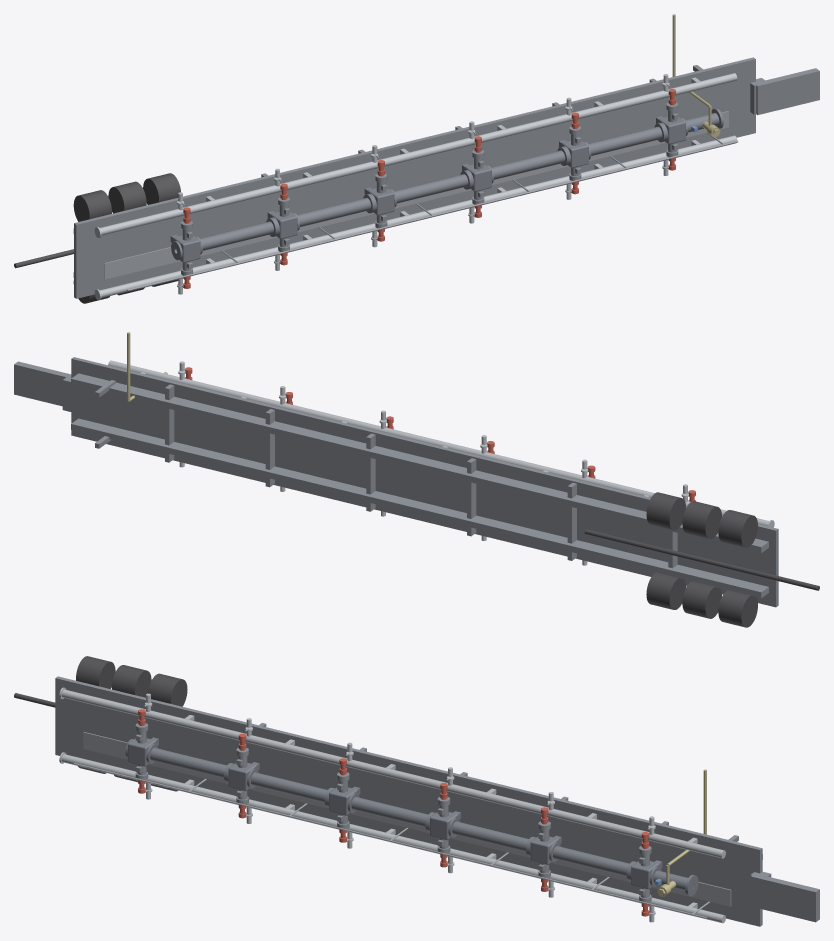
The model's file is PP-MISSILE.glb.
The picture shows the model from 3 angles, top to bottom: view 1: azimuth 30°, elevation 25°; view 2: azimuth 150°, elevation 25°; view 3: azimuth 330°, elevation 25°; orthographic projection. The views are drawn at different scales.
Parts seen in each view (by area): view 1: PP-MISSILE-DECK, PP-MISSILE-LPHEADER, PP-MISSILE-HPHEADER, PP-MISSILE-WALKWAY, PP-MISSILE-AXLES, PP-MISSILE-CHECKVALVE, PP-MISSILE-SWIVELARM, PP-MISSILE-LPOUTLET, PP-MISSILE-PRV; view 2: PP-MISSILE-DECK, PP-MISSILE-AXLES, PP-MISSILE-LPHEADER, PP-MISSILE-LPOUTLET; view 3: PP-MISSILE-DECK, PP-MISSILE-LPHEADER, PP-MISSILE-HPHEADER, PP-MISSILE-WALKWAY, PP-MISSILE-AXLES, PP-MISSILE-CHECKVALVE, PP-MISSILE-SWIVELARM, PP-MISSILE-LPOUTLET, PP-MISSILE-PRV, PP-MISSILE-OUTLET.
Boxes of the visible parts, x1,y1,x2,y2 form: PP-MISSILE-DECK: (73,57,819,298); PP-MISSILE-LPHEADER: (94,73,737,300); PP-MISSILE-HPHEADER: (170,116,688,262); PP-MISSILE-WALKWAY: (104,111,738,290); PP-MISSILE-AXLES: (14,173,180,303); PP-MISSILE-CHECKVALVE: (181,102,678,275); PP-MISSILE-SWIVELARM: (183,89,675,288); PP-MISSILE-LPOUTLET: (177,74,669,294); PP-MISSILE-PRV: (672,14,720,137); PP-MISSILE-DECK: (14,357,778,607); PP-MISSILE-AXLES: (584,492,819,627); PP-MISSILE-LPHEADER: (108,360,774,527); PP-MISSILE-LPOUTLET: (178,361,689,587); PP-MISSILE-DECK: (55,676,819,926); PP-MISSILE-LPHEADER: (59,687,725,923); PP-MISSILE-HPHEADER: (125,737,662,889); PP-MISSILE-WALKWAY: (73,732,731,918); PP-MISSILE-AXLES: (14,656,187,791); PP-MISSILE-CHECKVALVE: (135,723,651,902); PP-MISSILE-SWIVELARM: (138,709,649,916); PP-MISSILE-LPOUTLET: (144,693,655,922); PP-MISSILE-PRV: (657,769,706,896); PP-MISSILE-OUTLET: (653,870,698,896).
Size of the model in its own units: 28.88 by 4.9 by 3.02.
